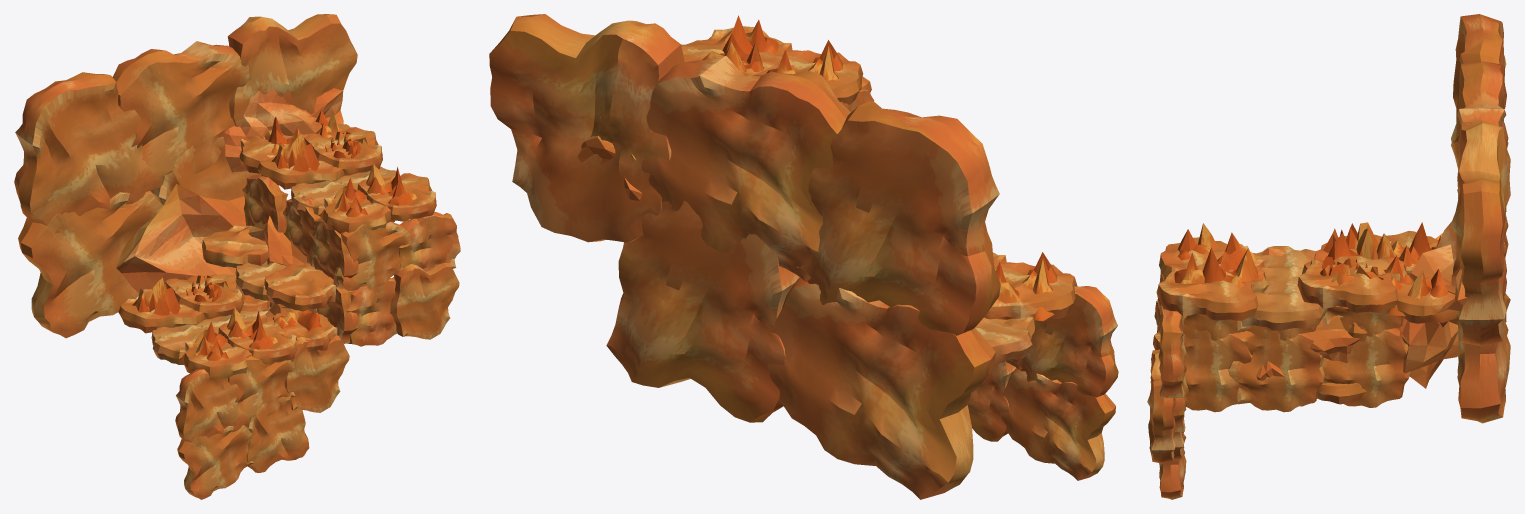
Rendered from example_bg.fbx.
3 renders of one model, left to right at view 1: azimuth 30°, elevation 25°; view 2: azimuth 150°, elevation 25°; view 3: azimuth 270°, elevation 25°, orthographic. The views are drawn at different scales.
Parts seen in each view (by area): view 1: Cube.064, Cube.063, Cube.066, Cube.062, Rock.006, Cube.044, Rock.005, Cube.049, Cube.051, Cube.046, Cube.047, Cube.050 (+31 smaller); view 2: Cube.064, Cube.066, Cube.062, Cube.063, Cube.065, Cube.051, Cube.049, Cube.028, Cube.050, Cube.026, Cube.010, Cube.014 (+4 smaller); view 3: Cube.062, Cube.029, Cube.031, Cube.003, Cube.030, Cube.065, Cube.010, Cube.063, Rock.006, Cube.011, Cube.064, Cube.045 (+21 smaller).
Boxes of the visible parts, left/top/right/bottom form: Cube.064: left=14, top=72, right=149, bottom=233; Cube.063: left=113, top=41, right=249, bottom=192; Cube.066: left=18, top=190, right=163, bottom=338; Cube.062: left=227, top=14, right=357, bottom=126; Rock.006: left=116, top=183, right=246, bottom=292; Cube.044: left=390, top=263, right=459, bottom=339; Rock.005: left=223, top=88, right=343, bottom=172; Cube.049: left=175, top=369, right=244, bottom=446; Cube.051: left=177, top=425, right=253, bottom=499; Cube.046: left=284, top=335, right=349, bottom=412; Cube.047: left=334, top=221, right=410, bottom=290; Cube.050: left=245, top=396, right=309, bottom=472; Cube.064: left=796, top=100, right=1000, bottom=335; Cube.066: left=767, top=277, right=995, bottom=499; Cube.062: left=489, top=14, right=684, bottom=242; Cube.063: left=641, top=56, right=850, bottom=281; Cube.065: left=606, top=200, right=799, bottom=422; Cube.051: left=1000, top=368, right=1115, bottom=480; Cube.049: left=1015, top=286, right=1118, bottom=397; Cube.028: left=984, top=262, right=1077, bottom=320; Cube.050: left=968, top=361, right=1015, bottom=441; Cube.026: left=975, top=317, right=1034, bottom=364; Cube.010: left=681, top=26, right=792, bottom=75; Cube.014: left=786, top=50, right=863, bottom=104; Cube.062: left=1451, top=120, right=1510, bottom=346; Cube.029: left=1228, top=329, right=1324, bottom=412; Cube.031: left=1322, top=325, right=1410, bottom=407; Cube.003: left=1297, top=256, right=1406, bottom=313; Cube.030: left=1184, top=329, right=1252, bottom=412; Cube.065: left=1457, top=242, right=1510, bottom=423; Cube.010: left=1157, top=264, right=1268, bottom=320; Cube.063: left=1451, top=61, right=1508, bottom=212; Rock.006: left=1396, top=233, right=1457, bottom=388; Cube.011: left=1241, top=274, right=1327, bottom=330; Cube.064: left=1451, top=14, right=1510, bottom=213; Cube.045: left=1157, top=307, right=1187, bottom=398.
Size of the model in its own units: 1583 by 1584 by 1158.
